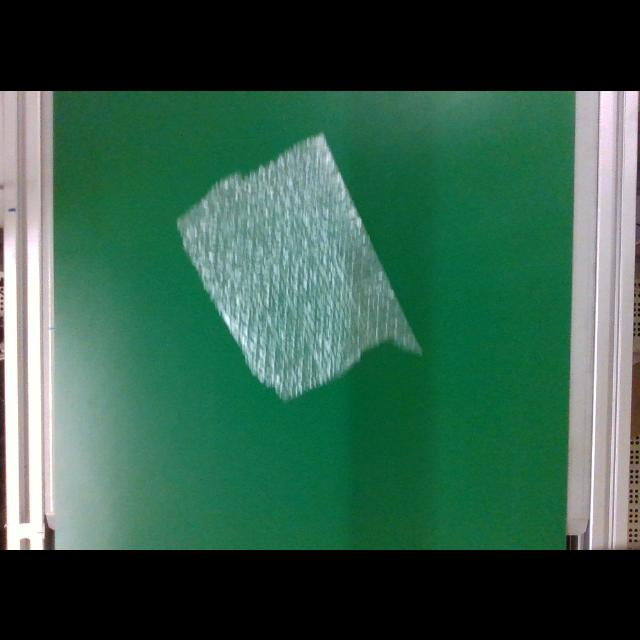scrap_plastic: (172, 129, 424, 399)
